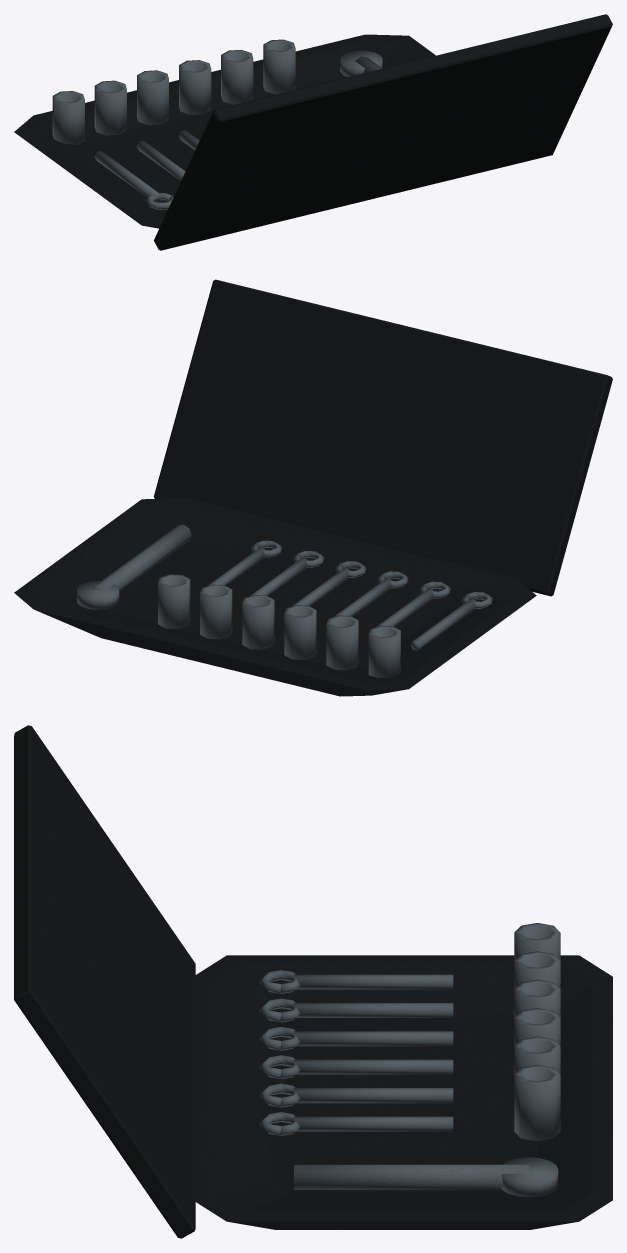
Rendered from WrenchSet.gltf.
The picture shows the model from 3 angles, top to bottom: view 1: azimuth 30°, elevation 25°; view 2: azimuth 150°, elevation 25°; view 3: azimuth 270°, elevation 25°; orthographic projection. The views are drawn at different scales.
Visible parts, largest first — view 1: WrenchSet__Body; view 2: WrenchSet__Body; view 3: WrenchSet__Body.
Part boxes in pixels (<box>): WrenchSet__Body: <box>14,14,612,250</box>; WrenchSet__Body: <box>14,279,612,696</box>; WrenchSet__Body: <box>14,725,612,1238</box>.
Size of the model in its own units: 0.42 by 0.2038 by 0.3994.
1 material, 1 textured.
